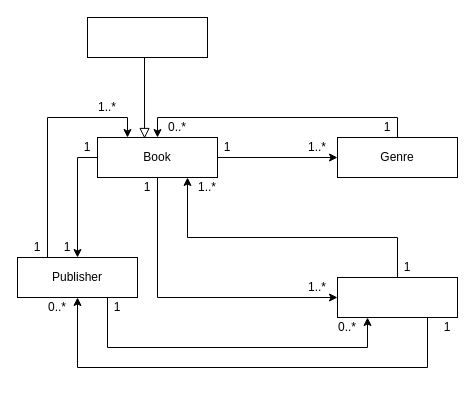
The diagram is 475 pixels wide and 393 high, and some of its shapes have lost their labels. Here are the shapes that lost their labels. From the top down, the centre of each, then its label:
At point (147, 37): "Journal".
At point (397, 297): "Author".
